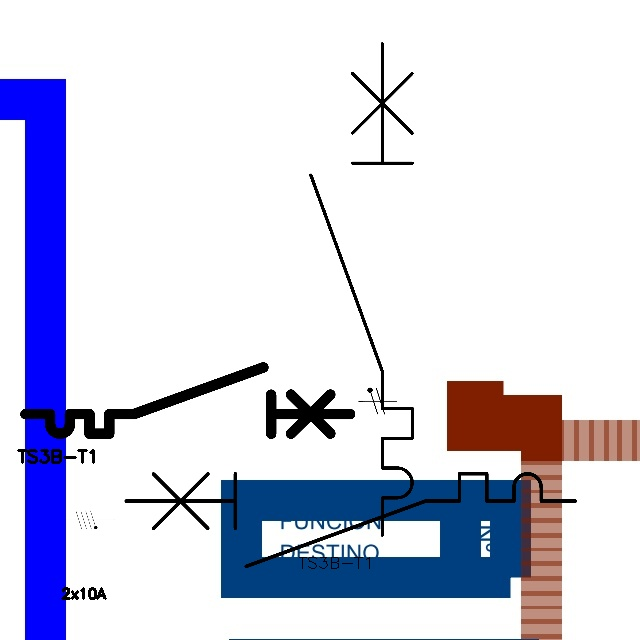interruptor_termomagnetico: (298, 31, 425, 548), (114, 462, 587, 577), (17, 359, 359, 442)
